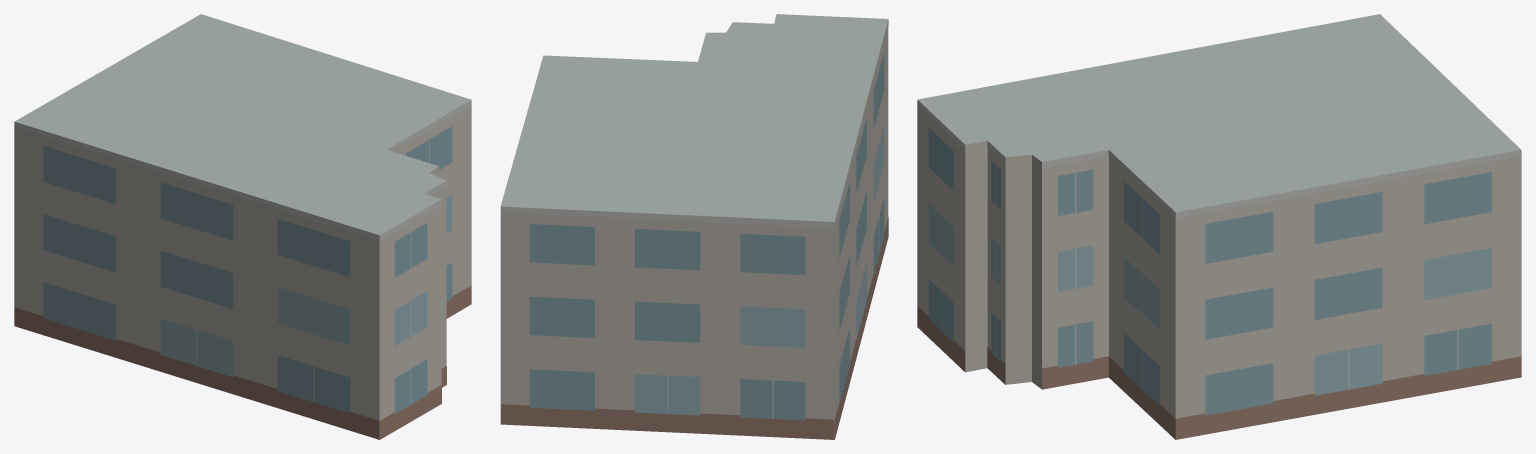
The model's file is survey-upis-32687692.glb.
3 renders of one model, left to right at view 1: azimuth 30°, elevation 25°; view 2: azimuth 150°, elevation 25°; view 3: azimuth 270°, elevation 25°, orthographic. The views are drawn at different scales.
Visible parts, largest first — view 1: survey-upis-32687692.tmp; view 2: survey-upis-32687692.tmp; view 3: survey-upis-32687692.tmp.
Part boxes in pixels (left/top/right/bottom): survey-upis-32687692.tmp: left=14, top=14, right=471, bottom=439; survey-upis-32687692.tmp: left=500, top=14, right=888, bottom=439; survey-upis-32687692.tmp: left=917, top=14, right=1521, bottom=439.
Bounding box in the file's own units: 17.12 × 9.15 × 22.03.
